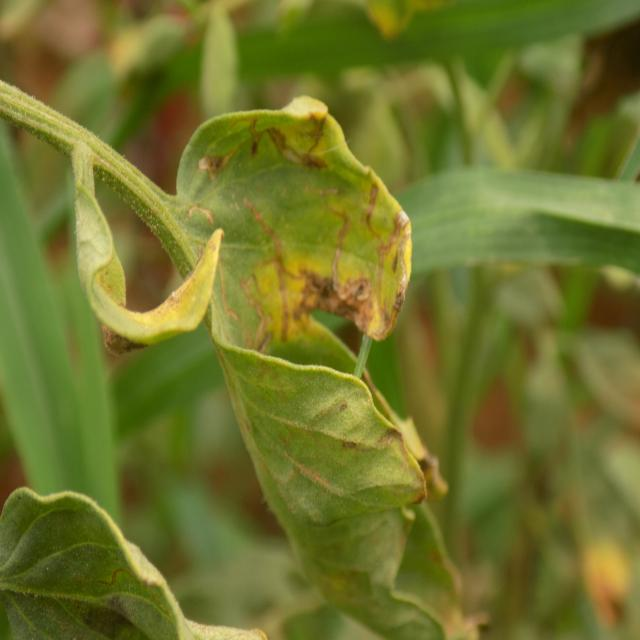tomato_early blight: (180, 88, 462, 640)
